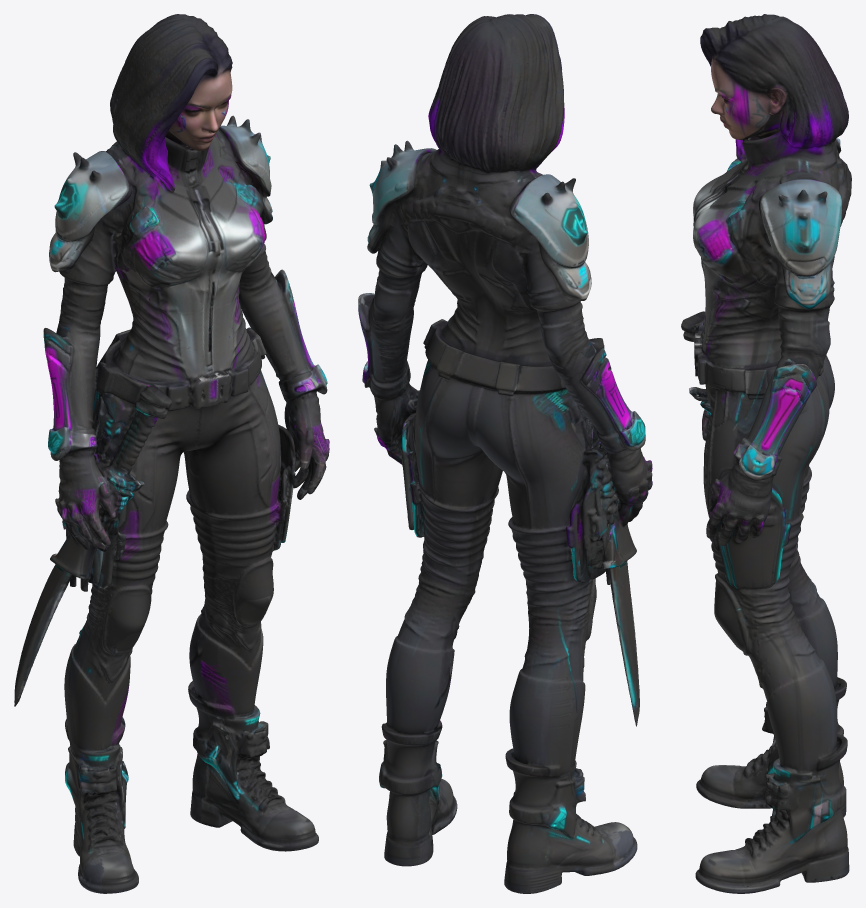
3 renders of one model, left to right at view 1: azimuth 30°, elevation 25°; view 2: azimuth 150°, elevation 25°; view 3: azimuth 270°, elevation 25°, orthographic.
Visible parts, largest first — view 1: mesh_0; view 2: mesh_0; view 3: mesh_0.
Part boxes in pixels (<box>): mesh_0: <box>14,14,329,893</box>; mesh_0: <box>358,14,652,893</box>; mesh_0: <box>681,14,851,893</box>.
Size of the model in its own units: 0.6966 by 1.9 by 0.3568.
1 material, 1 textured.
